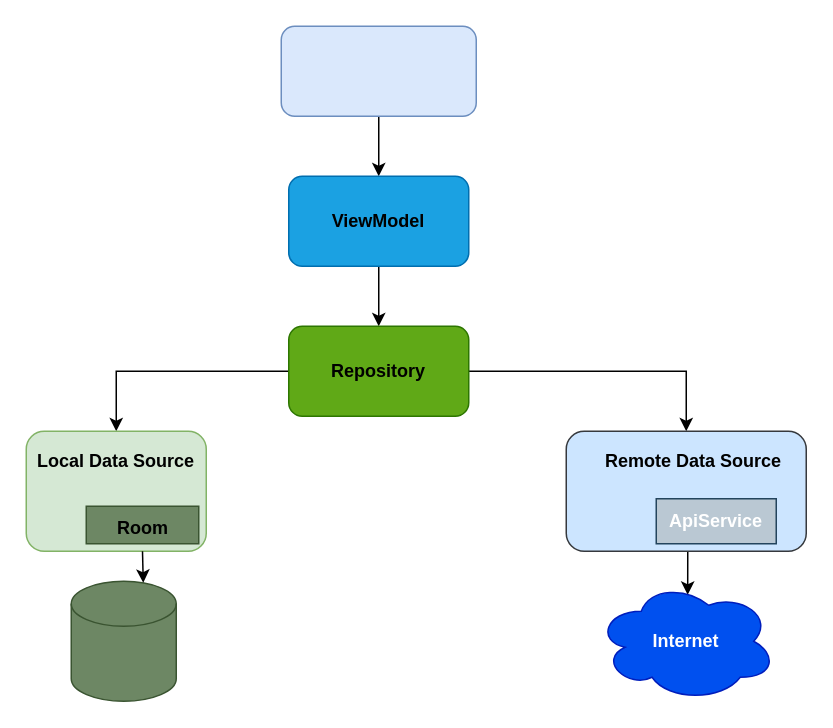
The diagram is 833 pixels wide and 728 high, and some of its shapes have lost their labels. The shapes that lost their labels are listed below. From the top down, each one's box as (x1, y1, x2, y2) in pixels, then its label:
(280, 25, 476, 116): UI Activity/Fragments
(70, 580, 176, 701): SQLite
